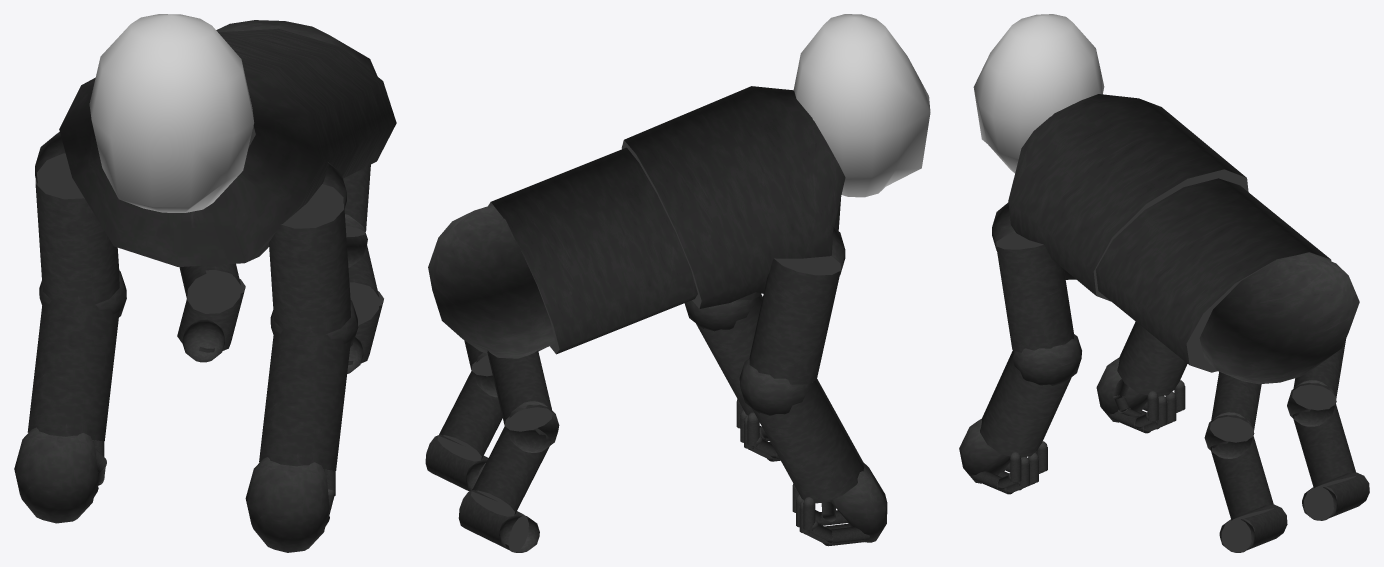
Rendered from armored_gorilla135.fbx.
3 views of the same model, side by side, from view 1: azimuth 30°, elevation 25°; view 2: azimuth 150°, elevation 25°; view 3: azimuth 270°, elevation 25° (orthographic). The views are drawn at different scales.
Parts seen in each view (by area): view 1: gorilla_chest&shoulders, gorilla_larm&lhand, gorilla_head, gorilla_rarm, gorilla_lower_torso, gorilla_rhand, gorilla_rleg, gorilla_lleg; view 2: gorilla_lower_torso, gorilla_chest&shoulders, gorilla_rarm, gorilla_head, gorilla_rleg, gorilla_lleg, gorilla_larm&lhand, gorilla_rhand; view 3: gorilla_lower_torso, gorilla_chest&shoulders, gorilla_larm&lhand, gorilla_head, gorilla_lleg, gorilla_rleg, gorilla_rhand, gorilla_rarm.
Part boxes in pixels (box(x1,y1,x2,y2)): gorilla_chest&shoulders: box(35, 36, 358, 266); gorilla_larm&lhand: box(245, 184, 358, 552); gorilla_head: box(89, 14, 254, 212); gorilla_rarm: box(27, 153, 126, 441); gorilla_lower_torso: box(216, 20, 396, 178); gorilla_rhand: box(14, 427, 106, 523); gorilla_rleg: box(177, 263, 245, 362); gorilla_lleg: box(343, 164, 383, 373); gorilla_lower_torso: box(428, 147, 697, 358); gorilla_chest&shoulders: box(621, 86, 845, 308); gorilla_rarm: box(739, 256, 864, 503); gorilla_head: box(793, 14, 930, 197); gorilla_rleg: box(458, 350, 559, 552); gorilla_lleg: box(425, 340, 502, 491); gorilla_larm&lhand: box(684, 292, 780, 461); gorilla_rhand: box(792, 463, 887, 546); gorilla_lower_torso: box(1096, 178, 1359, 384); gorilla_chest&shoulders: box(992, 94, 1248, 301); gorilla_larm&lhand: box(959, 233, 1081, 494); gorilla_head: box(973, 14, 1104, 173); gorilla_lleg: box(1204, 371, 1287, 552); gorilla_rleg: box(1287, 339, 1369, 520); gorilla_rhand: box(1096, 358, 1185, 433); gorilla_rarm: box(1117, 321, 1187, 396).
Size of the model in its own units: 233 by 270 by 232.
